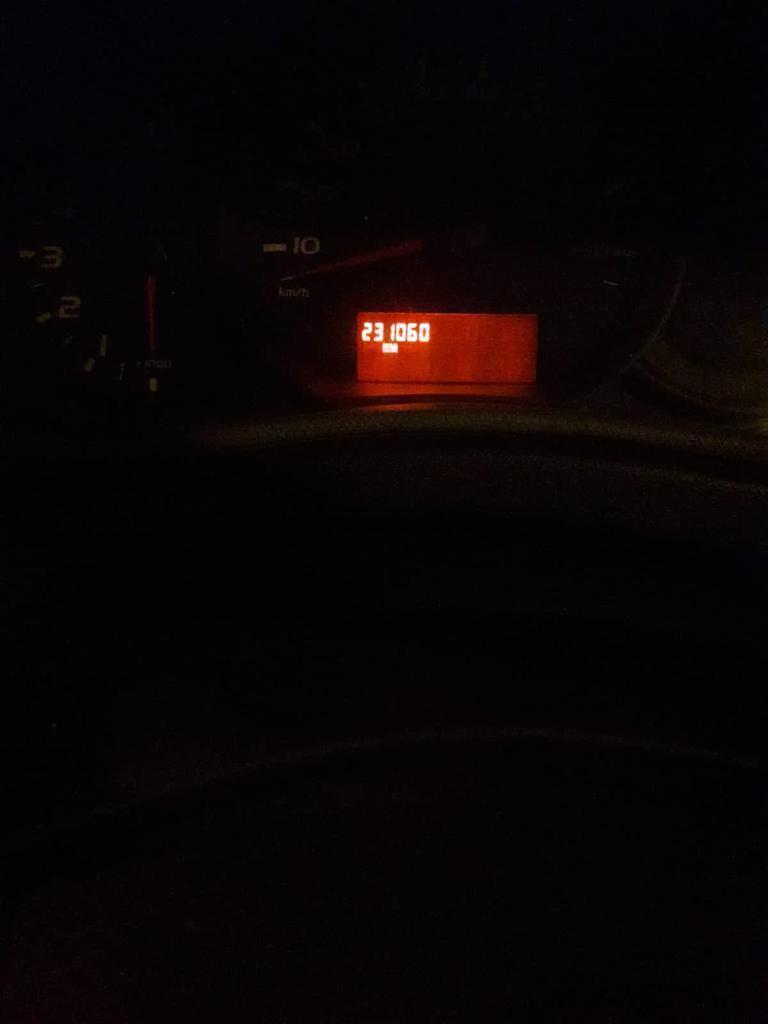0: (418, 321, 431, 342), (395, 321, 406, 342)
1: (386, 321, 394, 342)
2: (360, 321, 372, 342)
3: (373, 321, 384, 342)
6: (406, 321, 417, 342)
X: (389, 343, 398, 353), (382, 343, 389, 353)
odometer: (353, 309, 539, 386)
